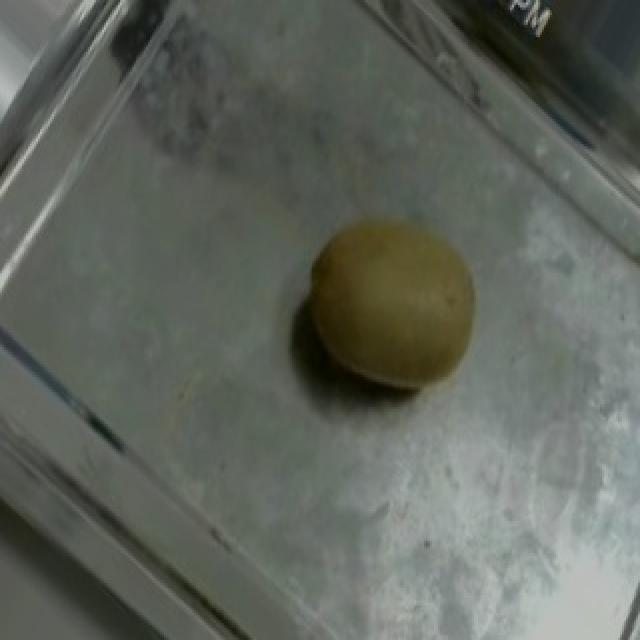Fruit: (260, 176, 514, 429)
